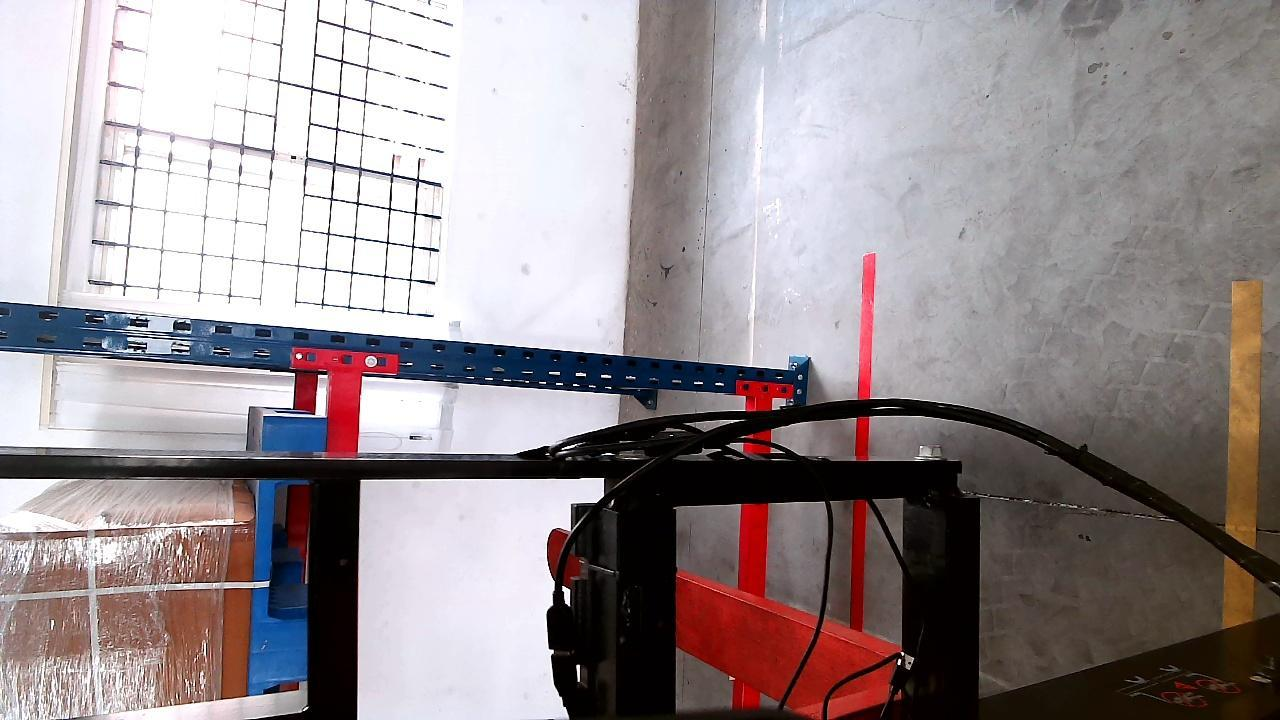red_line: (846, 253, 879, 629)
yellow_line: (1228, 280, 1266, 625)
